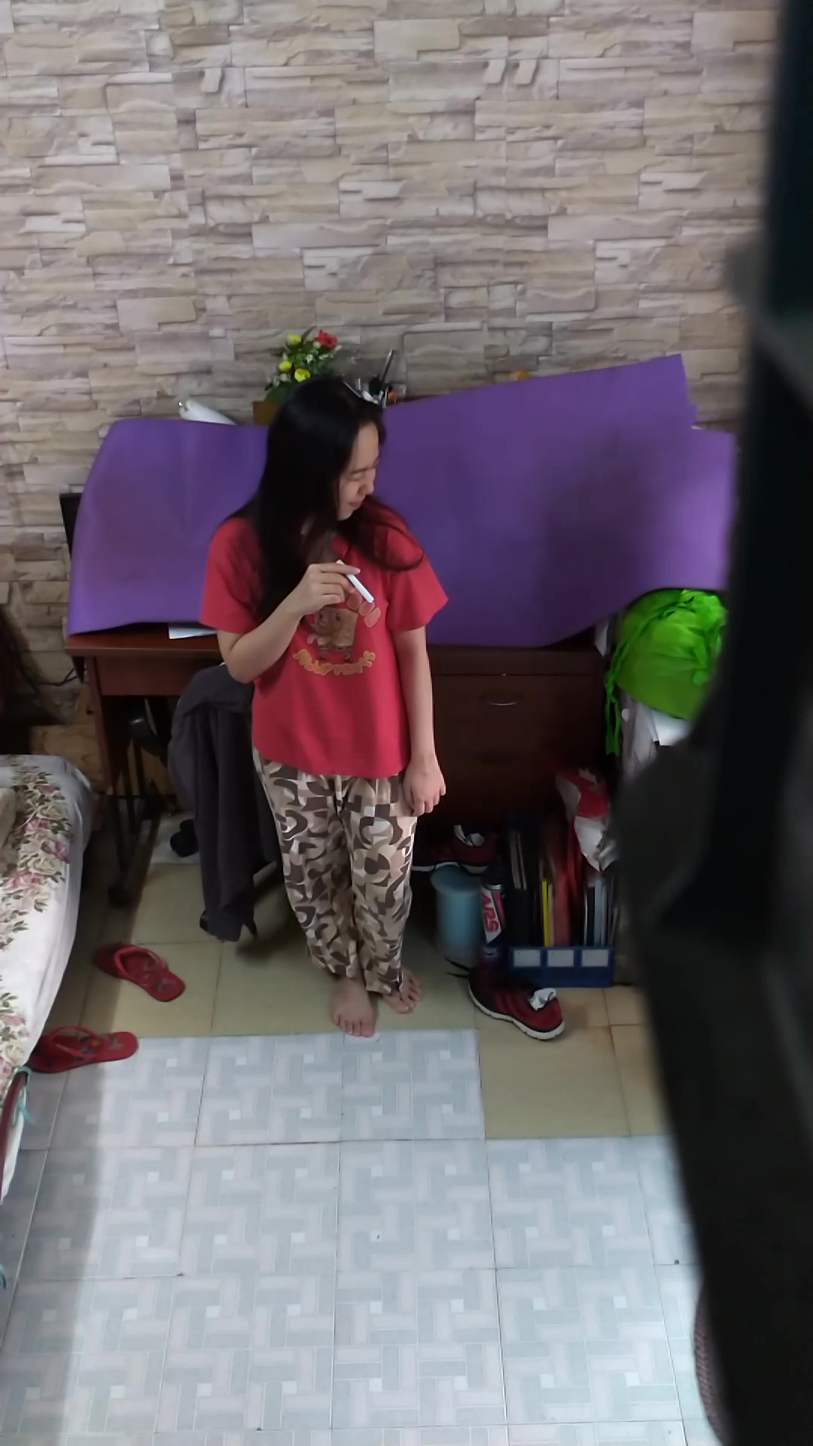cigarette: (344, 573, 378, 607)
person: (178, 366, 451, 1005)
